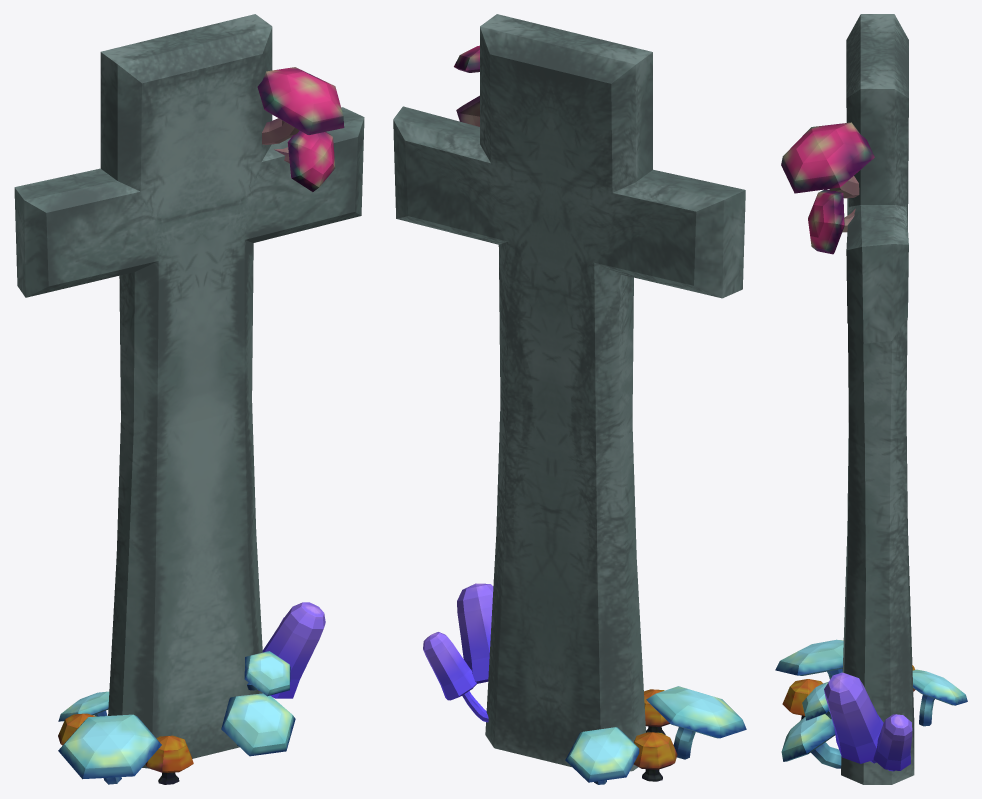
Rendered from mushroom_tombstone_01.fbx.
3 renders of one model, left to right at view 1: azimuth 30°, elevation 25°; view 2: azimuth 150°, elevation 25°; view 3: azimuth 270°, elevation 25°, orthographic.
Visible parts, largest first — view 1: mushroom_tombstone_01; view 2: mushroom_tombstone_01; view 3: mushroom_tombstone_01.
Part boxes in pixels (bbox=[...]): mushroom_tombstone_01: bbox=[14, 14, 364, 784]; mushroom_tombstone_01: bbox=[393, 14, 746, 784]; mushroom_tombstone_01: bbox=[775, 14, 967, 784].
Bounding box in the file's own units: 4.13 × 8.18 × 2.04.
2 materials, 2 textured.
